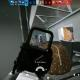Character: (38, 38, 42, 46)
Friend_label: (58, 40, 63, 44)
Head: (40, 38, 40, 39)
